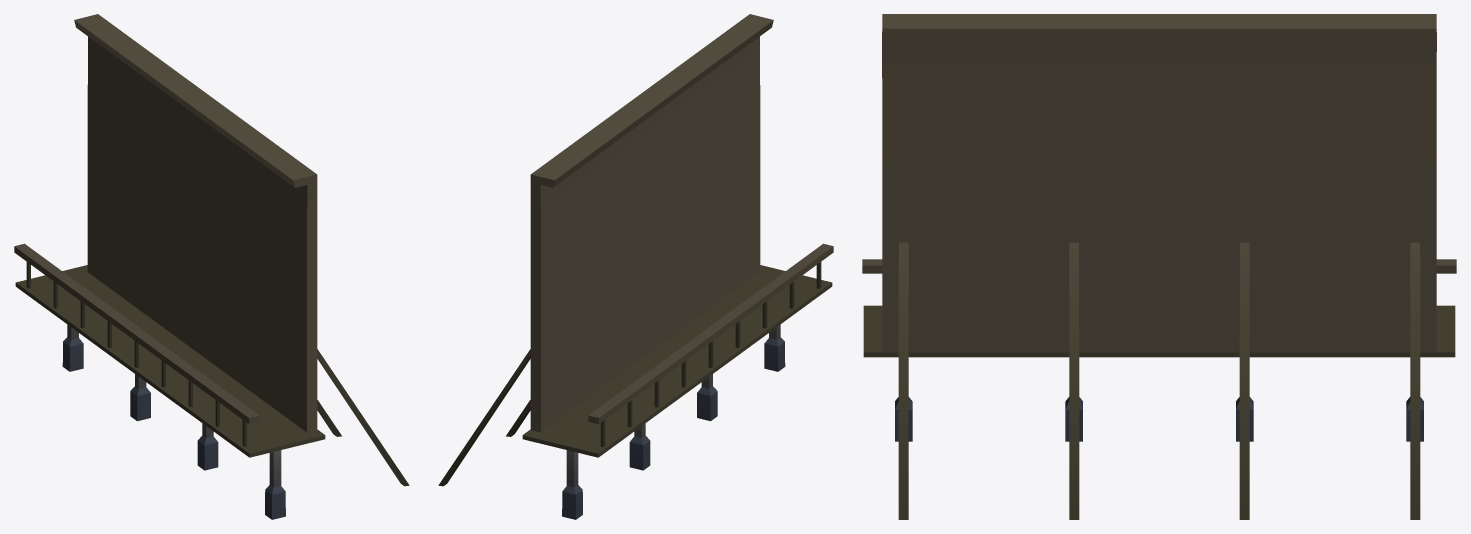
Rendered from Bilboard_1_A.fbx.
3 views of the same model, side by side, from view 1: azimuth 30°, elevation 25°; view 2: azimuth 150°, elevation 25°; view 3: azimuth 270°, elevation 25° (orthographic). The views are drawn at different scales.
Visible parts, largest first — view 1: Bilboard_1_A; view 2: Bilboard_1_A; view 3: Bilboard_1_A.
Boxes of the visible parts, x1,y1,x2,y2 form: Bilboard_1_A: (14,14,409,519); Bilboard_1_A: (438,14,833,519); Bilboard_1_A: (862,14,1456,519).
Size of the model in its own units: 128 by 238 by 298.
